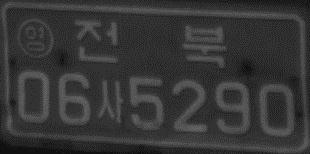0: (257, 83, 294, 137), (16, 69, 50, 124)
2: (171, 79, 208, 133)
5: (129, 76, 166, 132)
6: (57, 72, 92, 127)
9: (213, 81, 251, 135)
사: (96, 80, 124, 124)
영: (16, 17, 54, 59)
전북_D: (74, 19, 226, 69)
